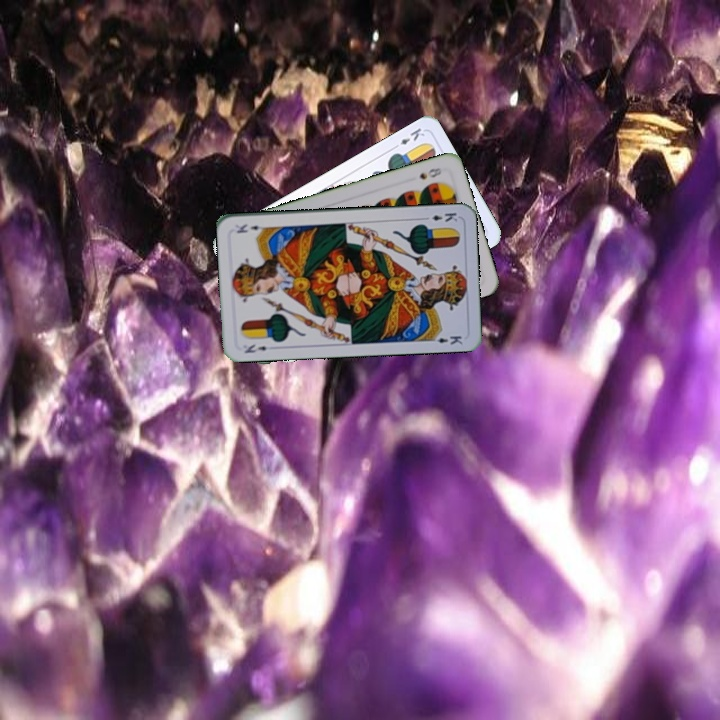EK: (389, 124, 427, 152), (419, 208, 460, 224), (241, 340, 269, 356)
S8: (415, 164, 444, 182)
